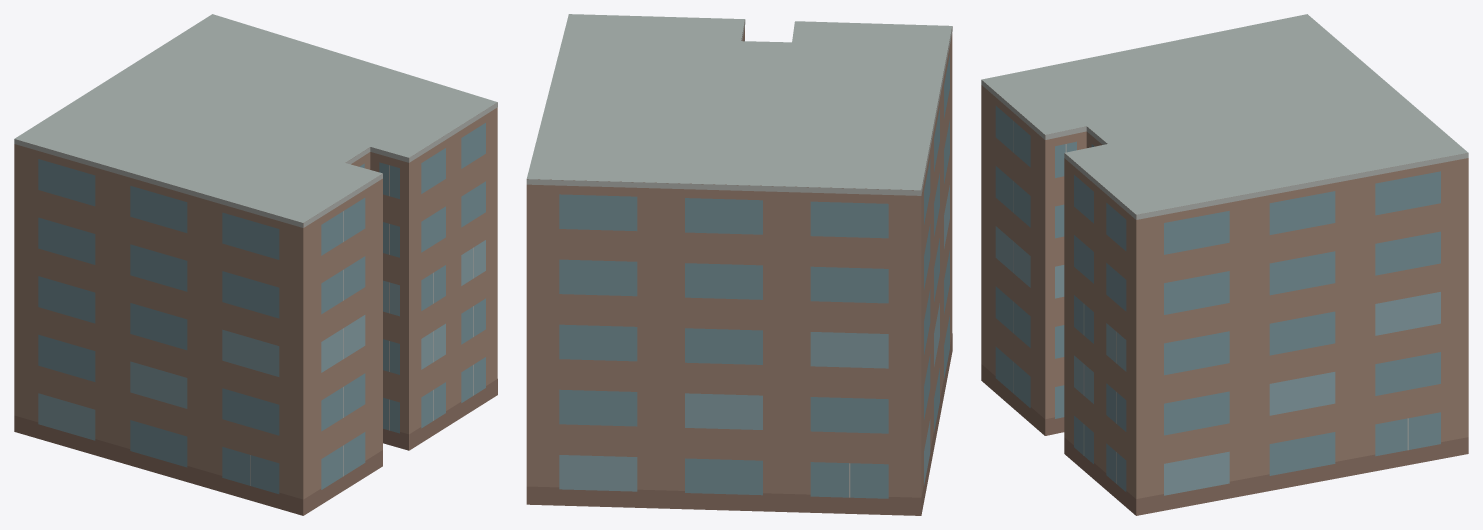
File: survey-upis-32744733.glb
The picture shows the model from 3 angles, left to right: view 1: azimuth 30°, elevation 25°; view 2: azimuth 150°, elevation 25°; view 3: azimuth 270°, elevation 25°; orthographic projection. The views are drawn at different scales.
Parts seen in each view (by area): view 1: survey-upis-32744733.tmp; view 2: survey-upis-32744733.tmp; view 3: survey-upis-32744733.tmp.
Part boxes in pixels (left/top/right/bottom): survey-upis-32744733.tmp: left=14, top=14, right=497, bottom=515; survey-upis-32744733.tmp: left=526, top=14, right=952, bottom=515; survey-upis-32744733.tmp: left=981, top=14, right=1468, bottom=515.
Bounding box in the file's own units: 20.32 × 14.2 × 20.83.
